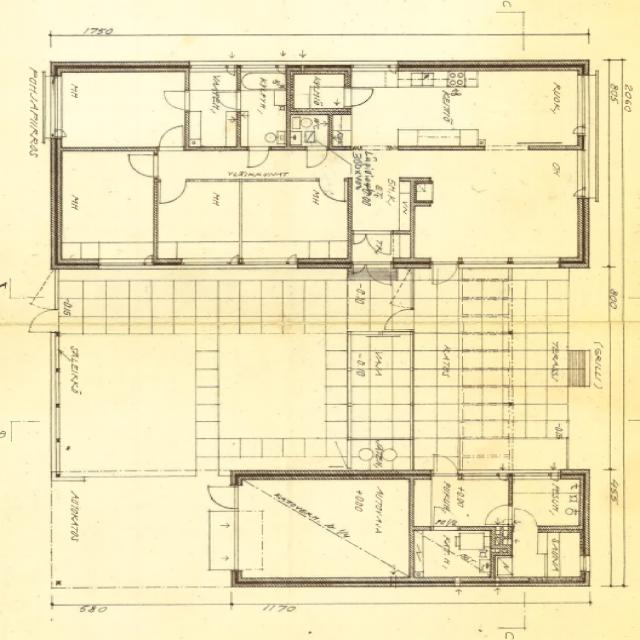door: (316, 442, 352, 467), (366, 257, 392, 289), (205, 486, 242, 508), (433, 257, 458, 289), (433, 449, 459, 479), (26, 310, 59, 332), (319, 178, 346, 204), (161, 177, 187, 204), (434, 504, 459, 531), (126, 155, 158, 176), (385, 309, 416, 330), (159, 125, 184, 151), (366, 230, 392, 255), (485, 505, 514, 524), (162, 91, 190, 110), (515, 507, 538, 530), (248, 145, 270, 168), (215, 92, 241, 109), (347, 89, 372, 106), (308, 146, 328, 167), (354, 257, 366, 278), (354, 230, 366, 245)
